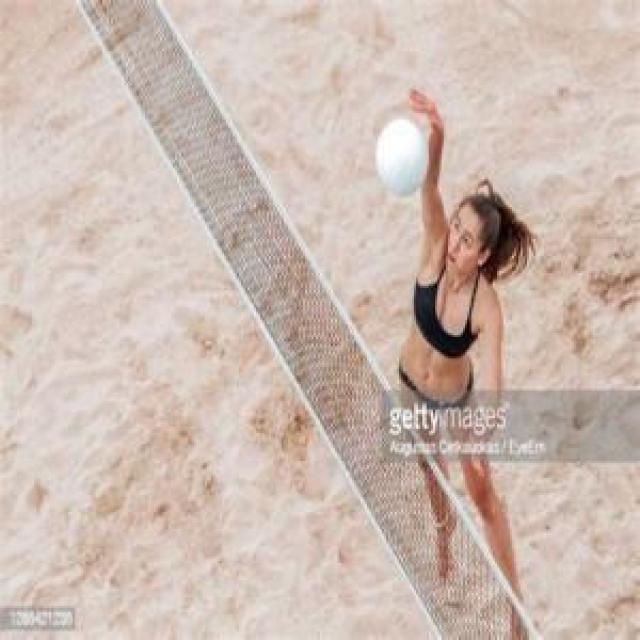volleyball: (375, 120, 429, 197)
